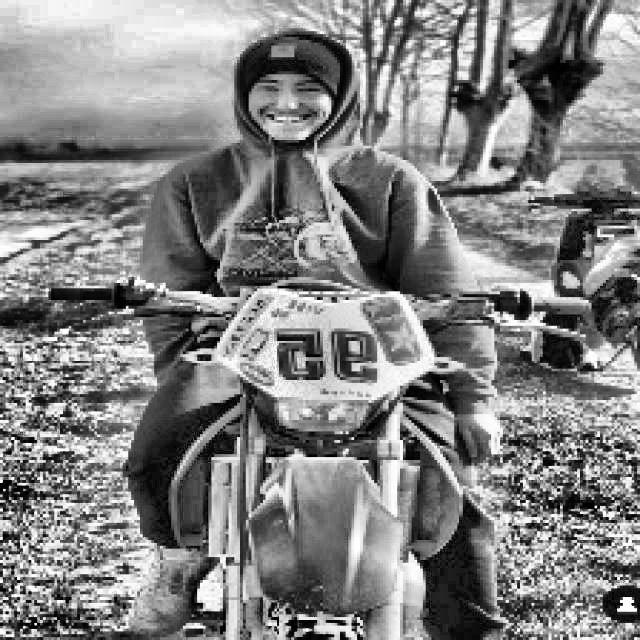motorcycle: (20, 260, 602, 640)
